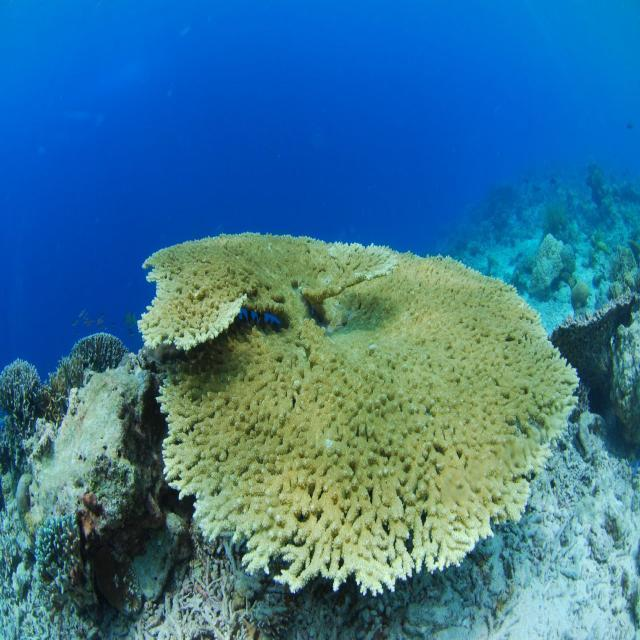Healthy: (140, 235, 581, 594)
